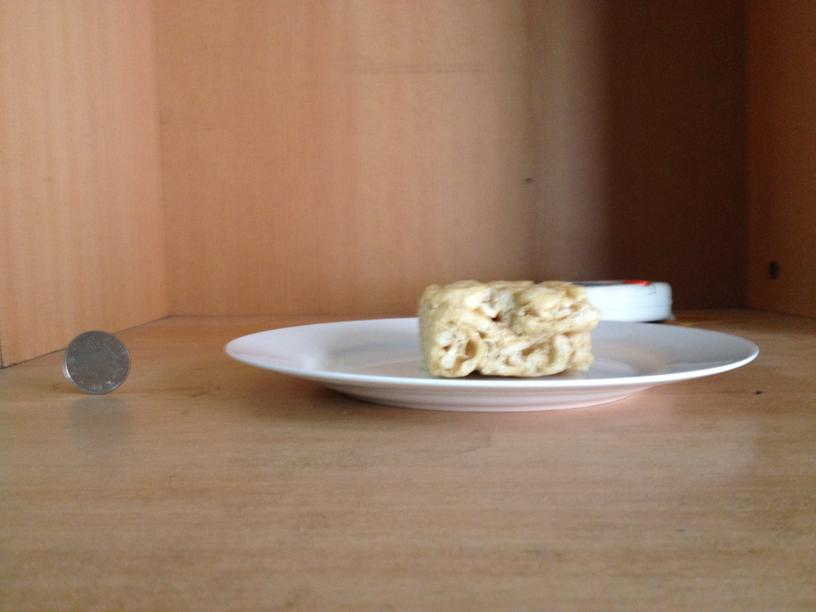coin: (65, 334, 131, 392)
sachima: (416, 280, 594, 377)
